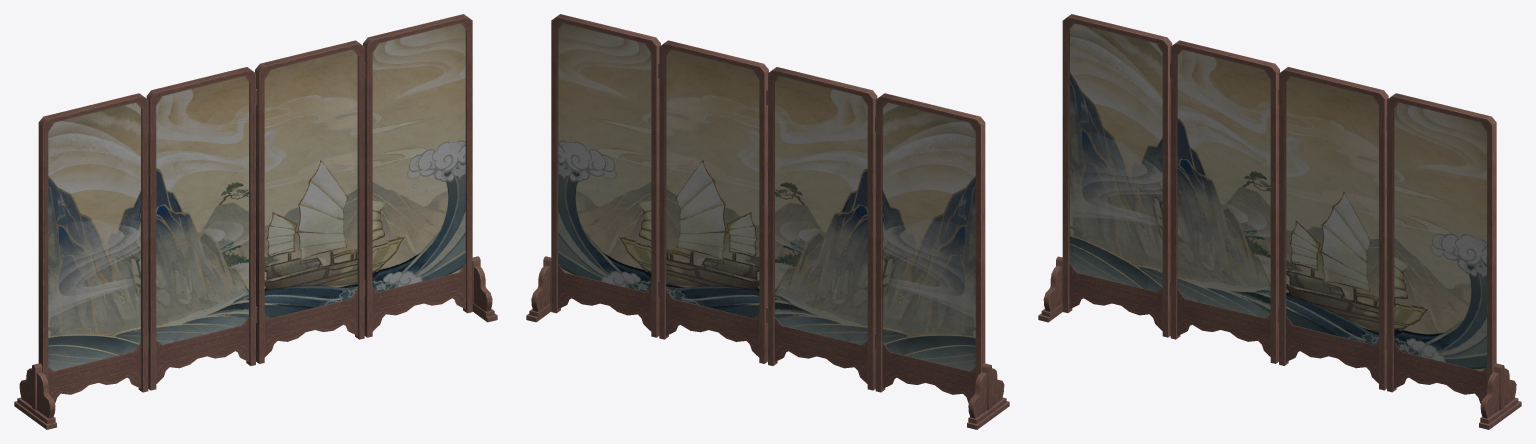
The model's file is Homeworld_Interior_Ly_Decoration_Screen_01_Vo.fbx.
The picture shows the model from 3 angles, left to right: view 1: azimuth 30°, elevation 25°; view 2: azimuth 150°, elevation 25°; view 3: azimuth 330°, elevation 25°; orthographic projection.
Parts seen in each view (by area): view 1: Area_Ly_Prop_Common_Screen_01_Vo; view 2: Area_Ly_Prop_Common_Screen_01_Vo; view 3: Area_Ly_Prop_Common_Screen_01_Vo.
Part boxes in pixels (x1,y1,x2,y2): Area_Ly_Prop_Common_Screen_01_Vo: (14, 14, 497, 429); Area_Ly_Prop_Common_Screen_01_Vo: (526, 14, 1009, 429); Area_Ly_Prop_Common_Screen_01_Vo: (1038, 14, 1521, 429).
Bounding box in the file's own units: 3.99 × 2.5 × 0.4997.
1 material, 1 textured.
